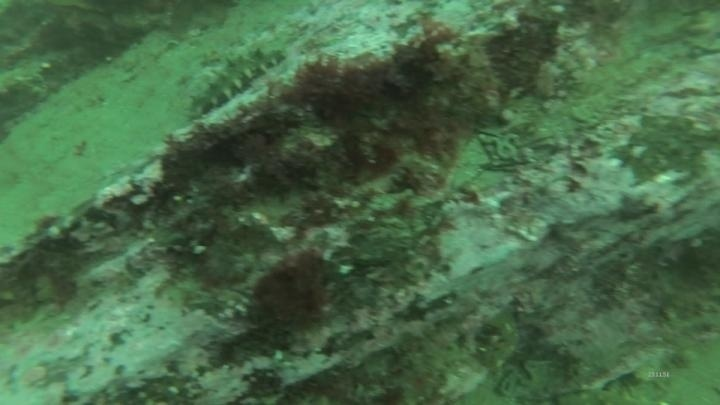holothurian: (184, 36, 288, 120), (473, 299, 525, 377)
